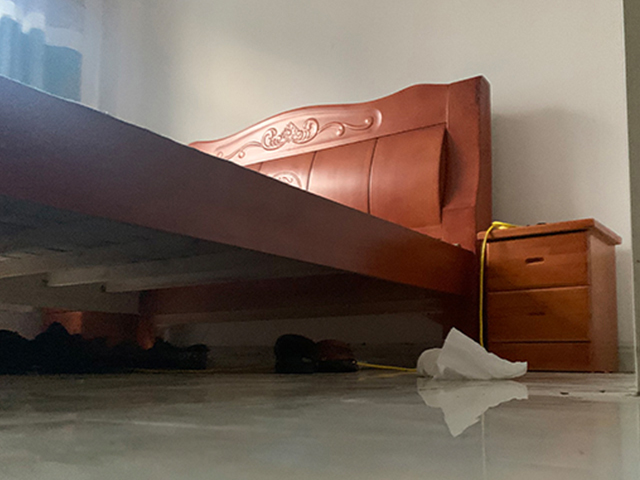bed: (1, 72, 490, 351)
cabinet: (477, 218, 621, 375)
wire: (478, 218, 509, 342)
